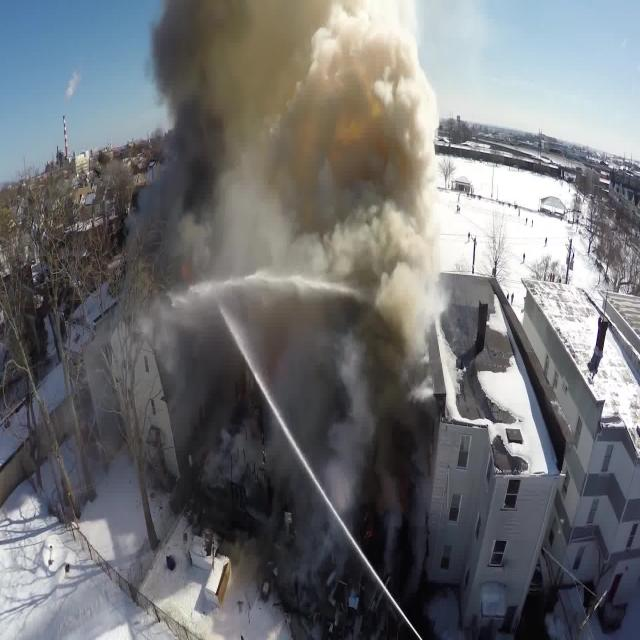Smoke: (138, 0, 442, 319)
